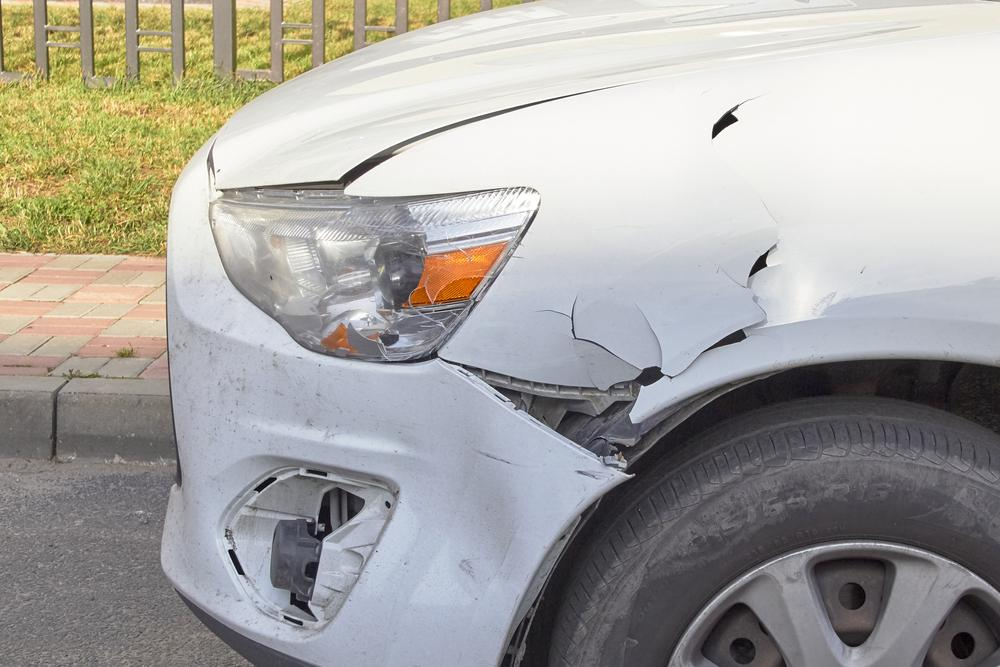crack: (534, 238, 781, 389), (711, 89, 776, 140)
dent: (367, 425, 520, 603), (754, 241, 861, 328)
lamp broken: (210, 186, 539, 364)
